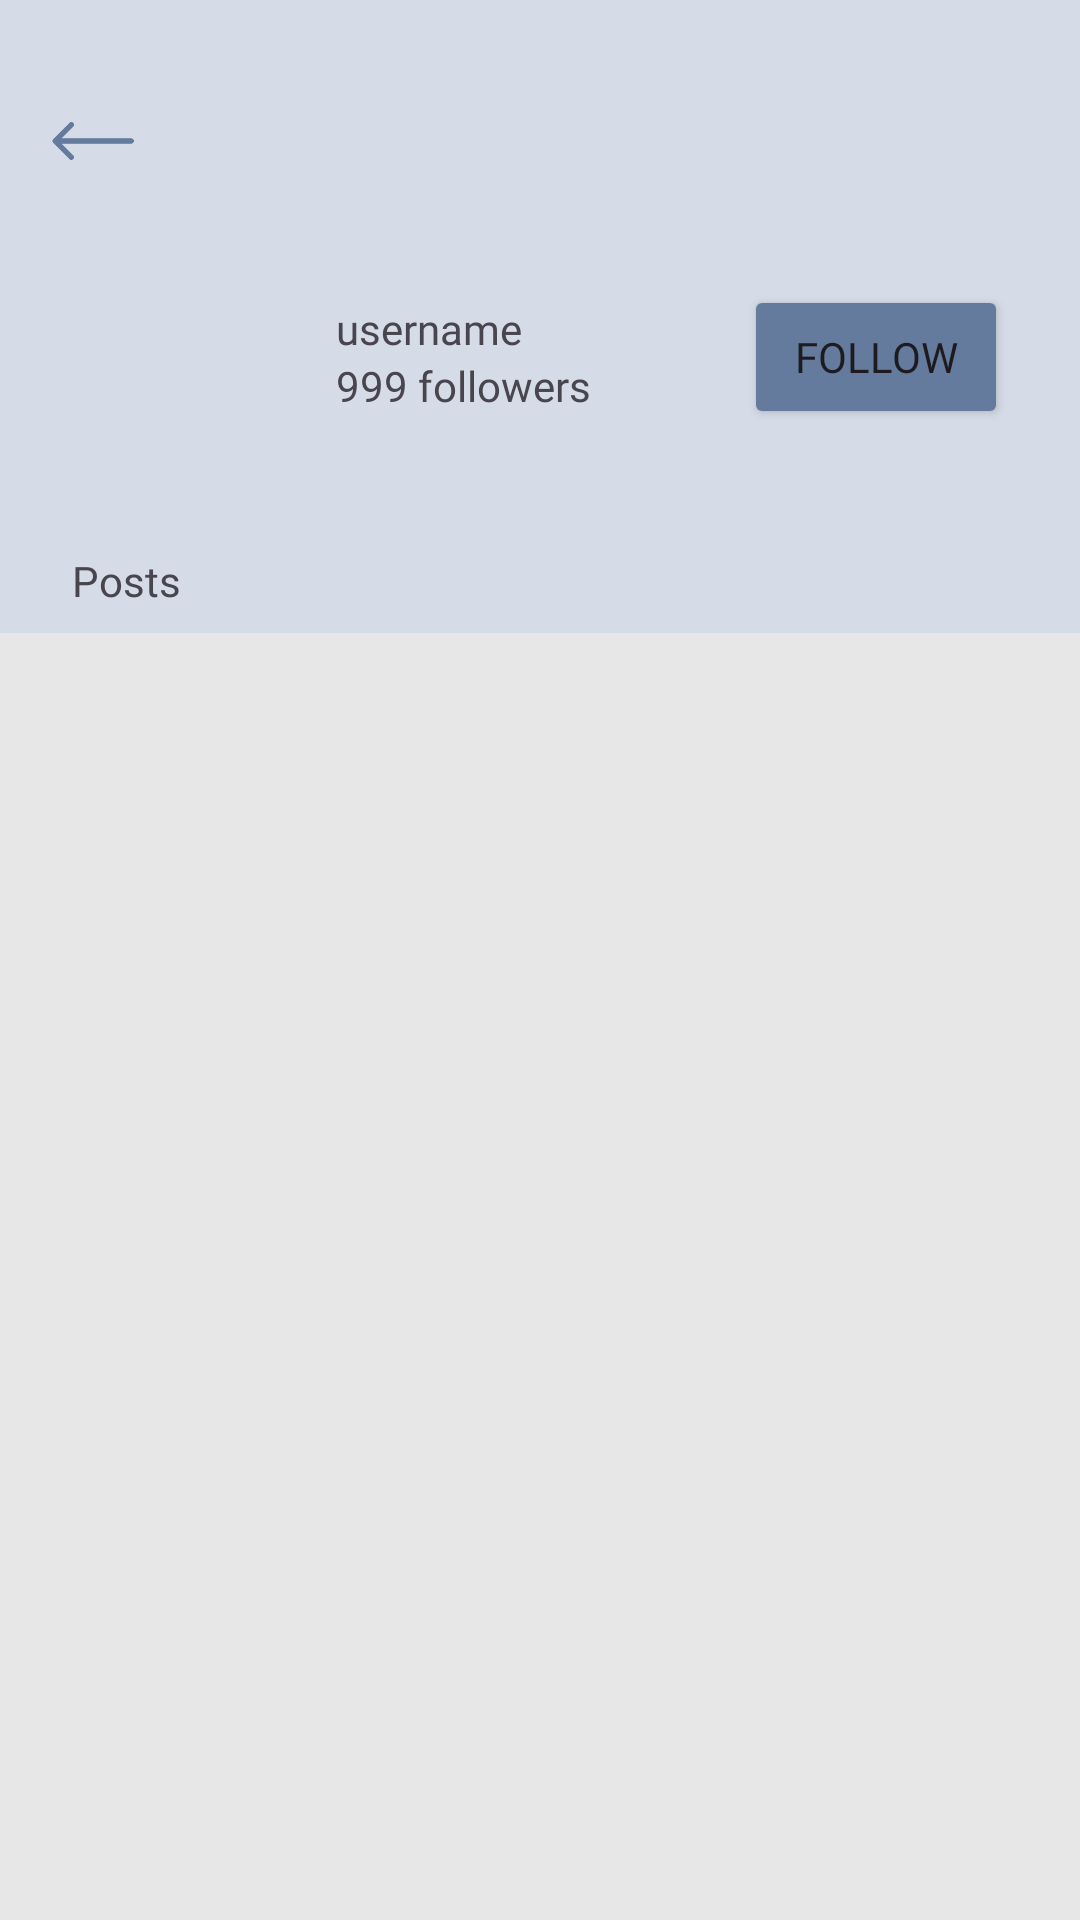

Locate icon controls on the screen. Image size 1080px x 1920px, boxes as (x1, y1, x2, y2).
back: (52, 122, 134, 160)
